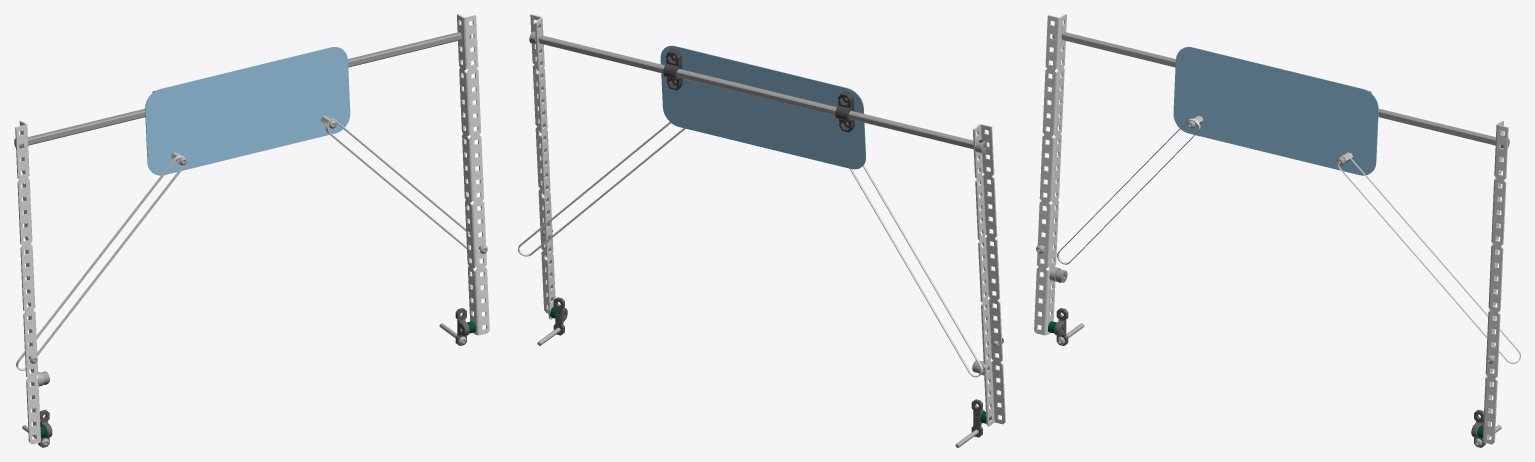
File: loader_emptier.obj
3 views of the same model, side by side, from view 1: azimuth 30°, elevation 25°; view 2: azimuth 150°, elevation 25°; view 3: azimuth 330°, elevation 25° (orthographic).
Size of the model in its own units: 0.4835 by 0.319 by 0.0493.
